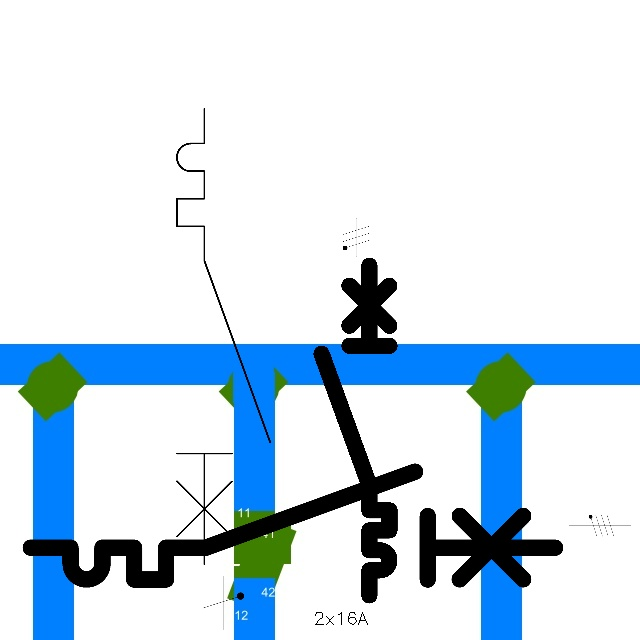interruptor_termomagnetico: (17, 458, 569, 593), (165, 97, 282, 576), (313, 257, 398, 604)
